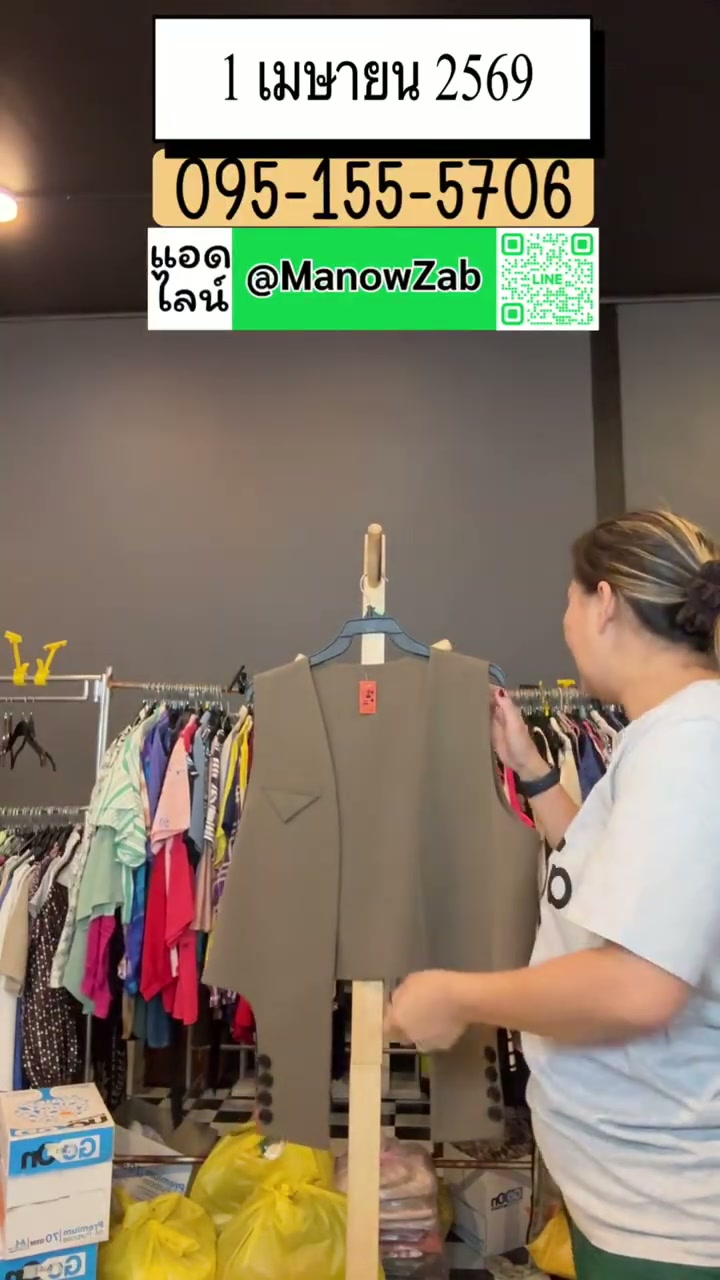display_shirt: (205, 649, 538, 1145), (432, 1028, 503, 1142)
